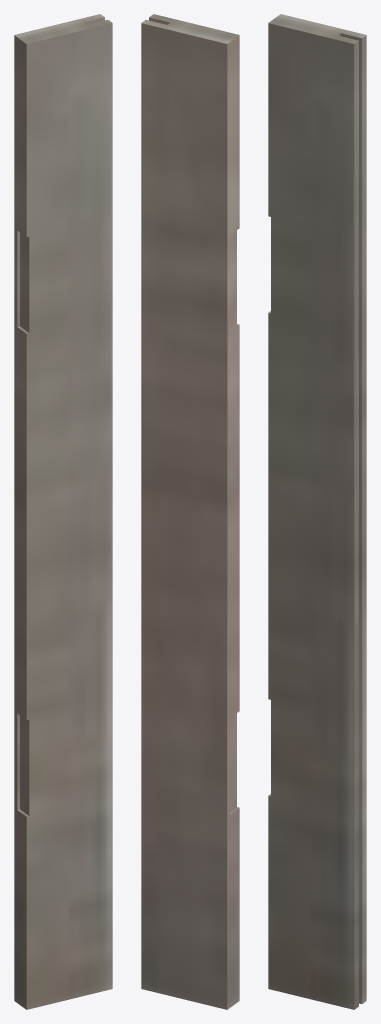
The model's file is original-50.obj.
3 renders of one model, left to right at view 1: azimuth 30°, elevation 25°; view 2: azimuth 150°, elevation 25°; view 3: azimuth 330°, elevation 25°, orthographic.
Visible parts, largest first — view 1: Door_Rail3_1/Door_Rail3/mesh74/mesh74-geometry#mesh74-geometry; view 2: Door_Rail3_1/Door_Rail3/mesh74/mesh74-geometry#mesh74-geometry; view 3: Door_Rail3_1/Door_Rail3/mesh74/mesh74-geometry#mesh74-geometry.
Part boxes in pixels (x1,y1,x2,y2): Door_Rail3_1/Door_Rail3/mesh74/mesh74-geometry#mesh74-geometry: [14, 14, 112, 1009]; Door_Rail3_1/Door_Rail3/mesh74/mesh74-geometry#mesh74-geometry: [141, 14, 239, 1009]; Door_Rail3_1/Door_Rail3/mesh74/mesh74-geometry#mesh74-geometry: [268, 14, 366, 1009].
Size of the model in its own units: 0.0728 by 0.7795 by 0.0182.
